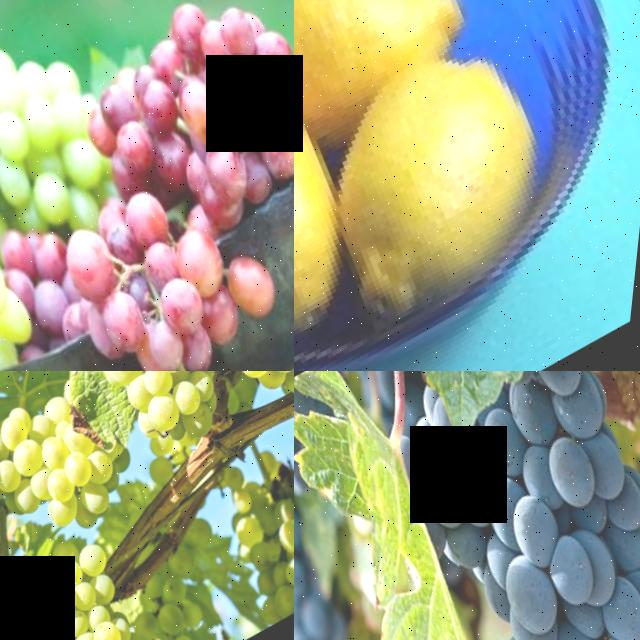grapes: (365, 371, 640, 640), (48, 0, 294, 264), (31, 145, 294, 371), (0, 0, 130, 296), (0, 188, 175, 371), (0, 371, 269, 478), (0, 382, 138, 558), (9, 536, 187, 640), (215, 466, 294, 640), (0, 371, 56, 590)
lemon: (294, 30, 587, 345), (294, 35, 395, 371), (294, 0, 488, 148)
